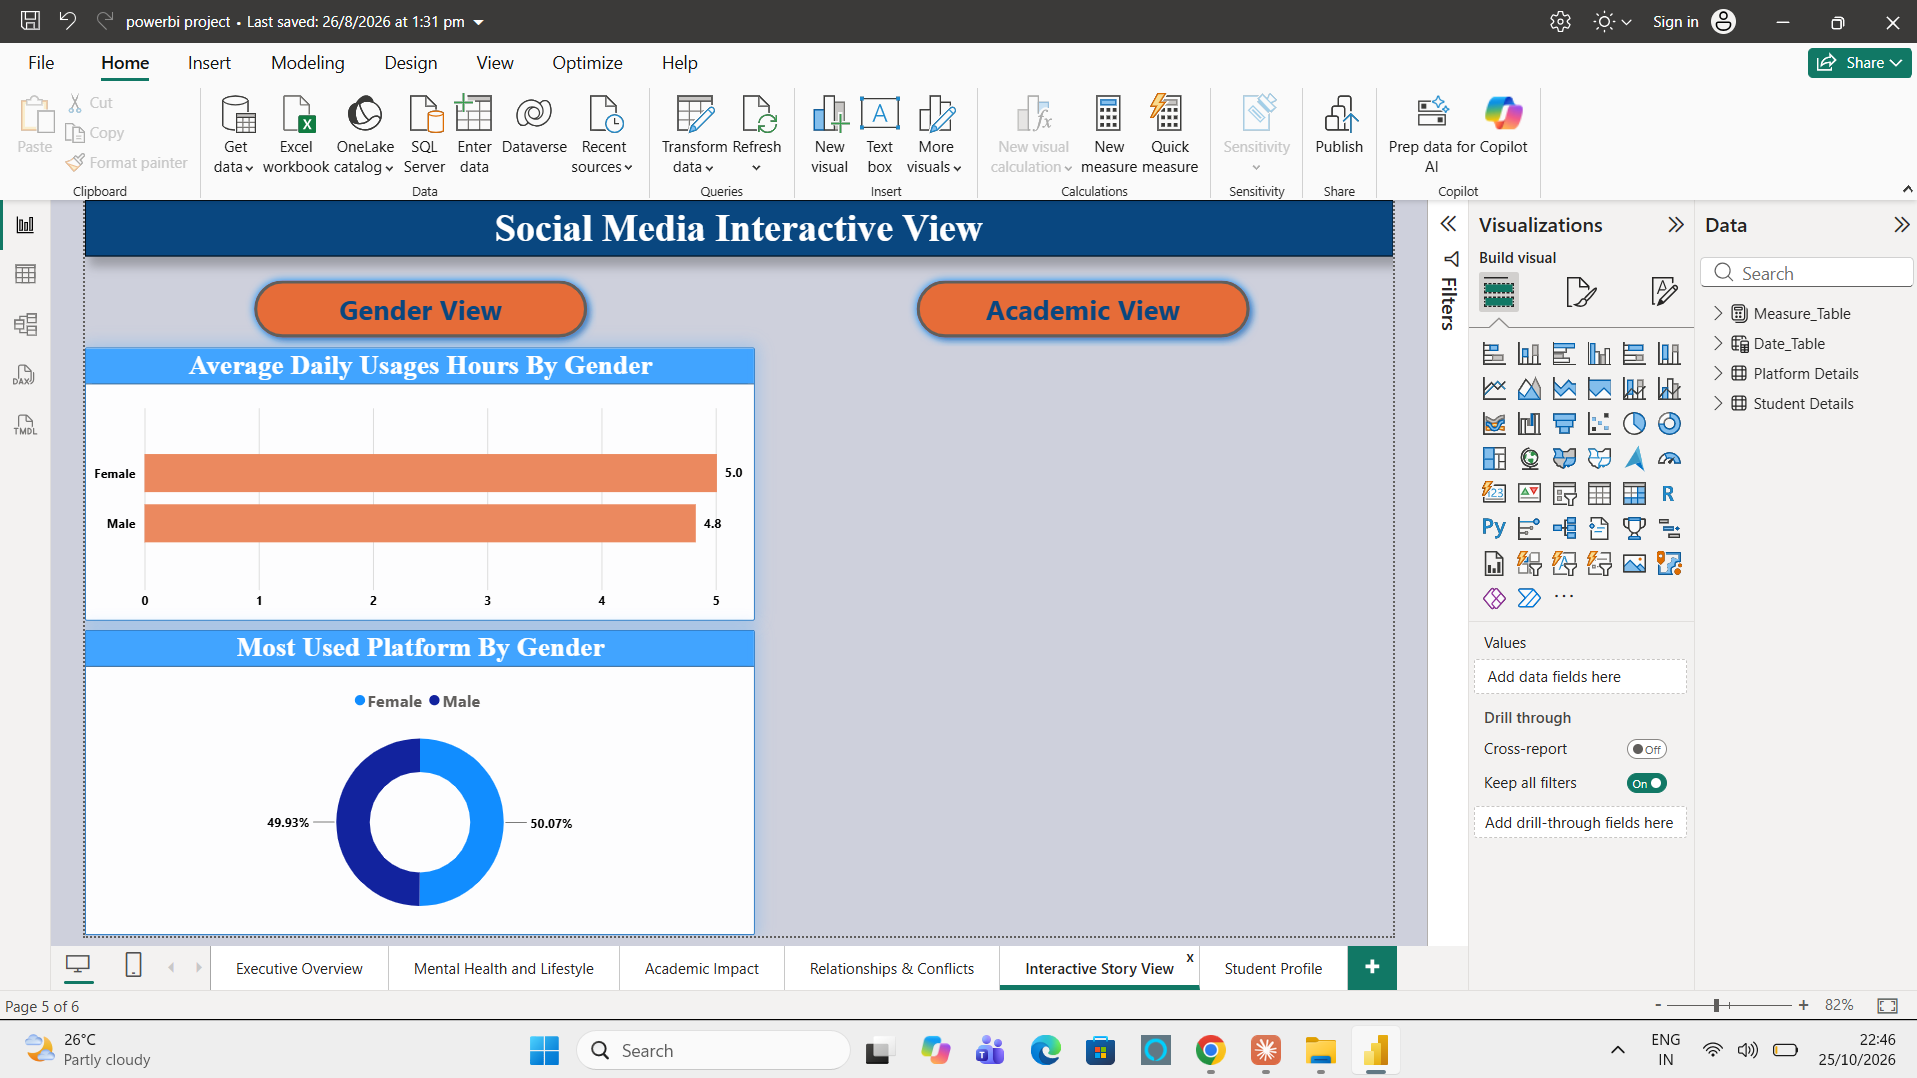

What the dashboard file says about the page in this screenshot:
{"tool":"powerbi","page":{"name":"Page 5","canvas":[1280,720],"ordinal":4},"visuals":[{"type":"textbox","box":[0,0,1280,55],"z":0},{"type":"clusteredBarChart","title":"Average Daily Usages Hours By Gender","fields":{"Category":["Student Details.Gender"],"Y":["Avg(Platform Details.Avg_Daily_Usage_Hours)"]},"box":[0,143.8,655,267.5],"z":1000},{"type":"donutChart","title":"Most Used Platform By Gender","fields":{"Category":["Student Details.Gender"],"Y":["CountNonNull(Platform Details.Most_Used_Platform)"]},"box":[0,421.2,655,298.8],"z":2000},{"type":"actionButton","box":[156.2,70,343.8,73.8],"z":5000},{"type":"actionButton","box":[805,70,343.8,73.8],"z":6000}]}

Visuals, with their boxes on the page's 1280x720 design canvas (x1, y1, x2, y2). These are canvas units, not pixel positions in the 1917x1078 screenshot, which may show the page scaled, cropped or inside an application window:
textbox: box(0, 0, 1280, 55)
"Average Daily Usages Hours By Gender" clusteredBarChart: box(0, 144, 655, 411)
"Most Used Platform By Gender" donutChart: box(0, 421, 655, 720)
actionButton: box(156, 70, 500, 144)
actionButton: box(805, 70, 1149, 144)
